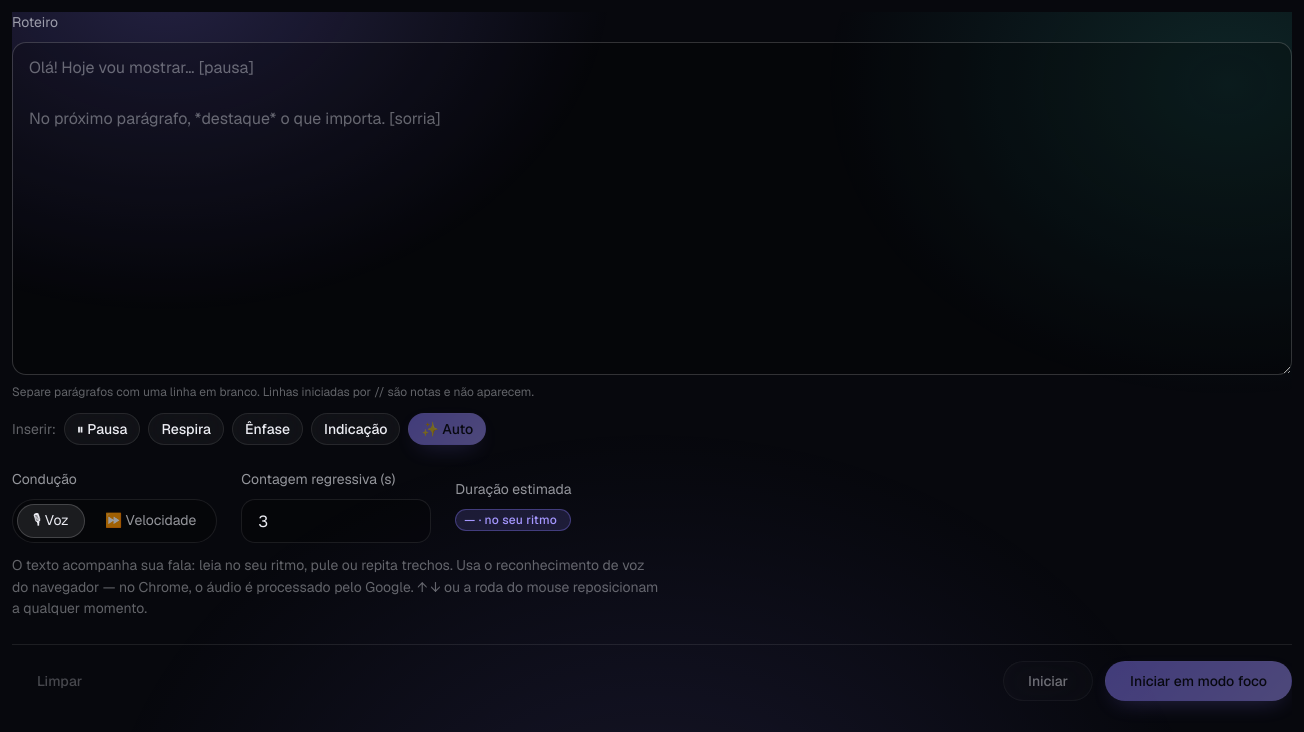
it: <Teleprompter /> — editor › insere marcação de pausa no cursor
Replace the text in the text box labelled "Roteiro" with "Olá" at {"x": 652, "y": 208}, box [12, 42, 1292, 375]
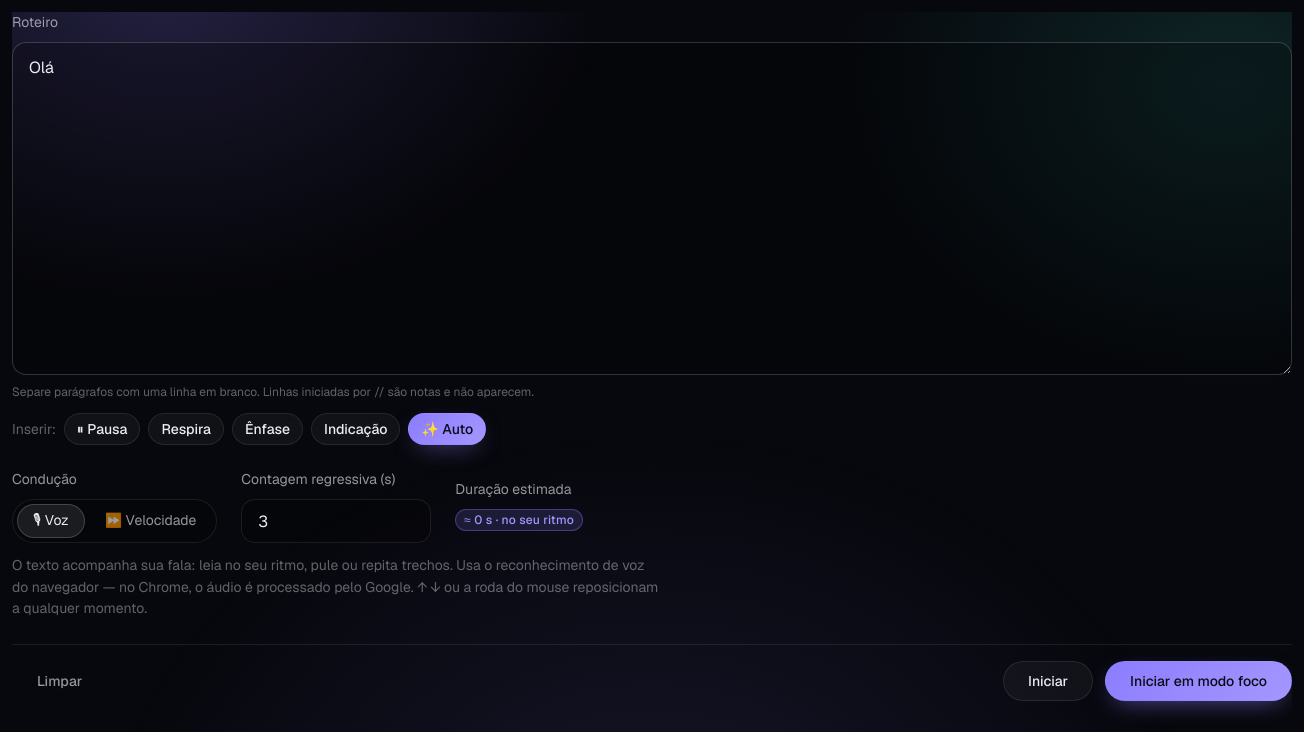
Click the button "⏸ Pausa" at {"x": 102, "y": 429}, box [64, 413, 140, 445]
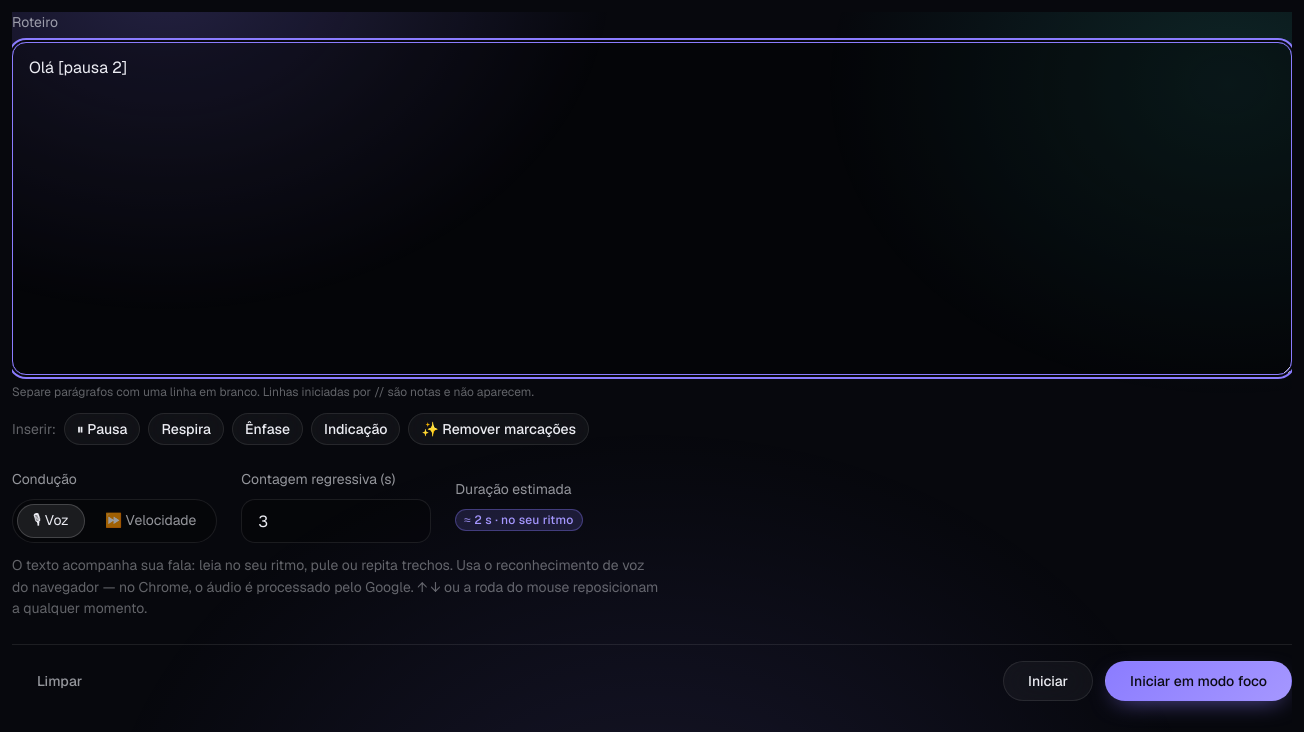
Now the text box labelled "Roteiro" holds "Olá [pausa 2]", box [12, 42, 1292, 375]
